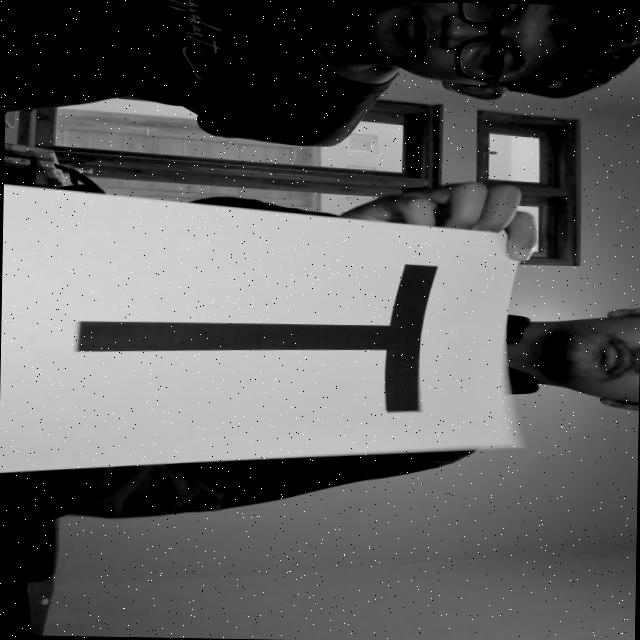t: (62, 245, 454, 418)
